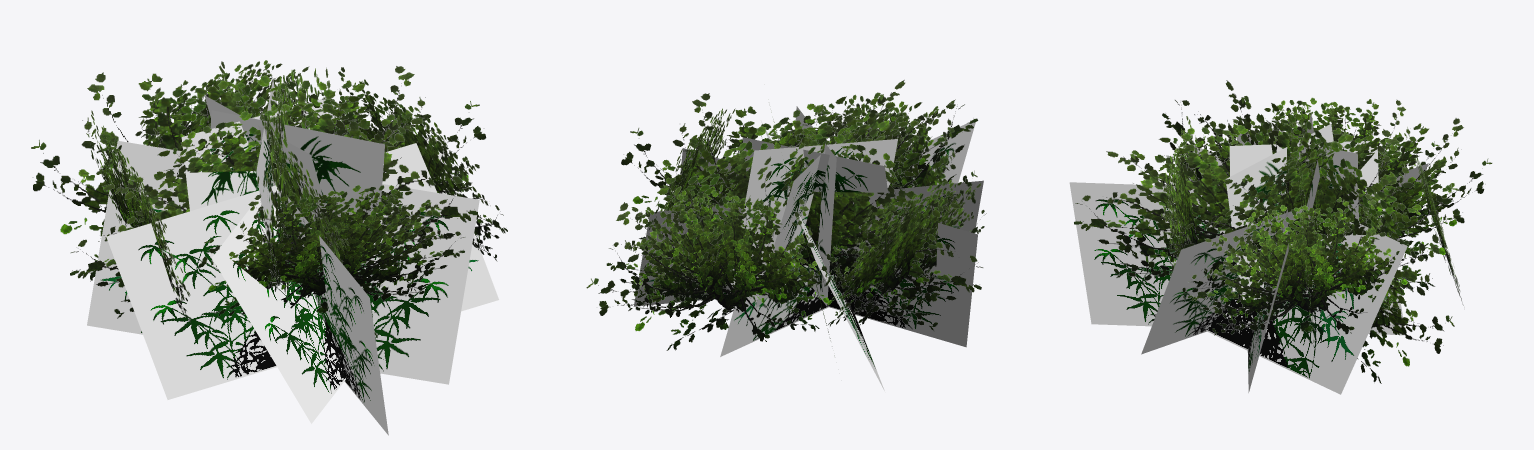
The model's file is grass.fbx.
3 renders of one model, left to right at view 1: azimuth 30°, elevation 25°; view 2: azimuth 150°, elevation 25°; view 3: azimuth 270°, elevation 25°, orthographic. The views are drawn at different scales.
Parts seen in each view (by area): view 1: 下草2, 低木, 下草1; view 2: 低木, 下草2, 下草1; view 3: 低木, 下草2, 下草1.
Part boxes in pixels (left/top/right/bottom): 下草2: left=87, top=115, right=498, bottom=435; 低木: left=31, top=60, right=507, bottom=338; 下草1: left=181, top=78, right=384, bottom=239; 低木: left=586, top=79, right=986, bottom=355; 下草2: left=633, top=121, right=983, bottom=390; 下草1: left=730, top=106, right=900, bottom=308; 低木: left=1074, top=80, right=1492, bottom=383; 下草2: left=1069, top=145, right=1428, bottom=394; 下草1: left=1225, top=113, right=1378, bottom=310.
Bounding box in the file's own units: 7.4 × 5.81 × 7.52.
